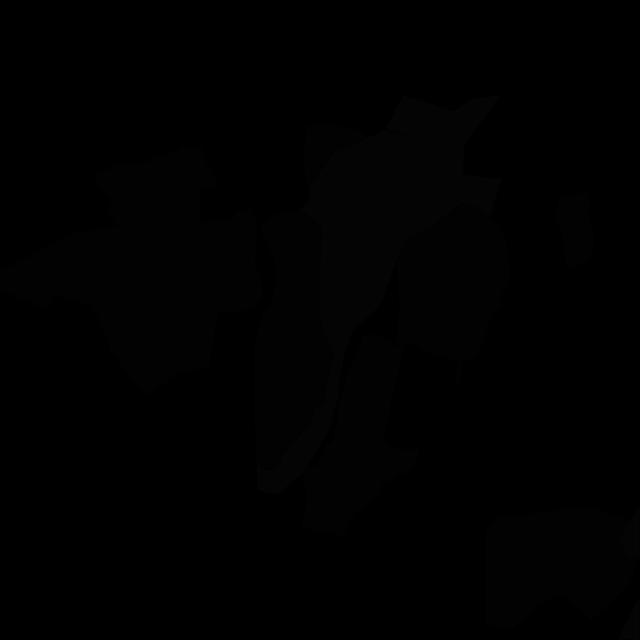cardboard: (0, 173, 224, 397), (301, 333, 420, 538), (254, 211, 334, 470), (396, 203, 510, 384), (485, 506, 640, 628), (95, 146, 219, 230), (200, 208, 263, 313), (304, 123, 368, 189), (556, 192, 594, 272), (457, 297, 502, 364)
soft_plastic: (257, 124, 432, 493), (386, 95, 502, 240), (618, 506, 640, 640)
